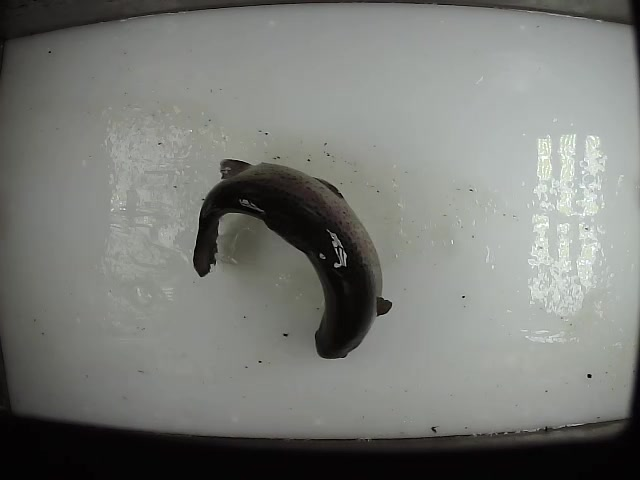fish: (191, 156, 398, 361)
